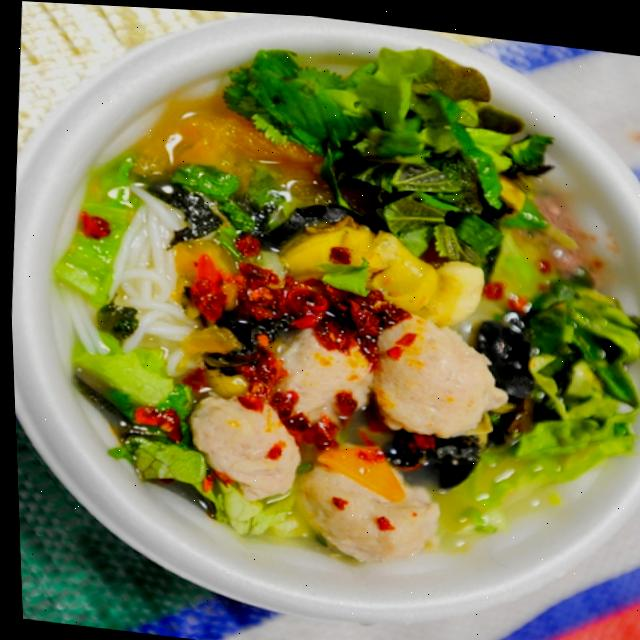面条主食: (2, 0, 640, 629)
